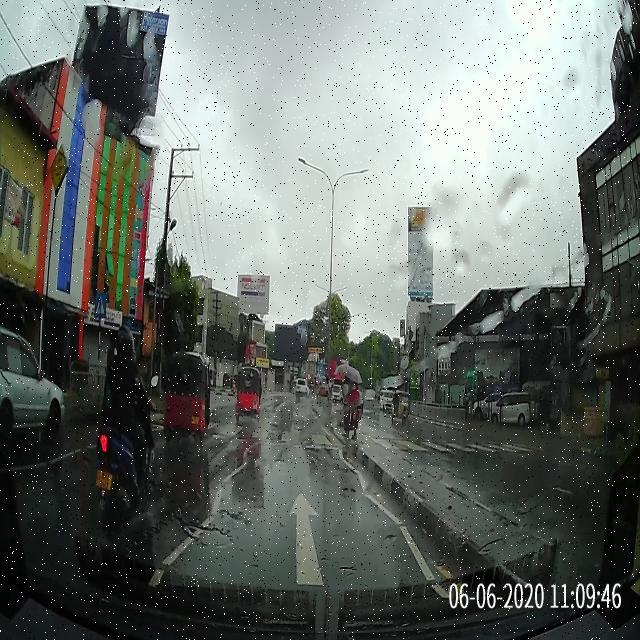forward: (145, 487, 433, 585)
